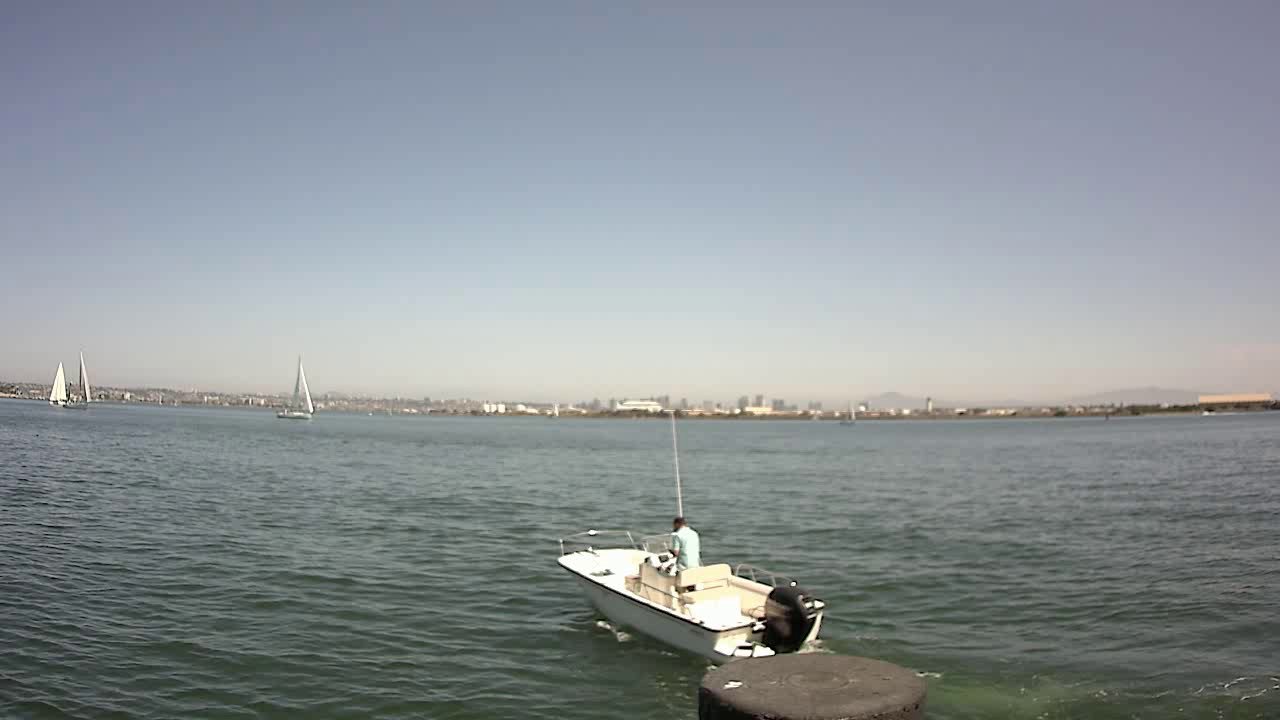target: (555, 505, 837, 679)
